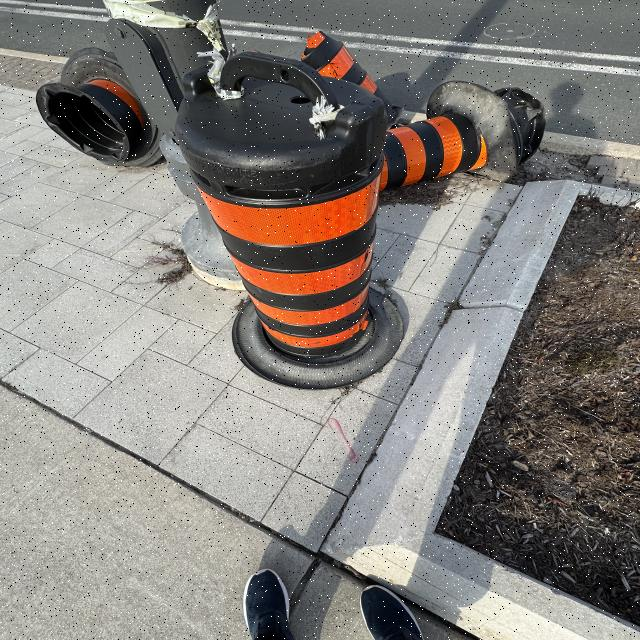Teraffic Barrel: (176, 52, 403, 388), (380, 81, 546, 190), (36, 48, 161, 166), (427, 81, 546, 181), (301, 31, 403, 126), (380, 113, 487, 190)
